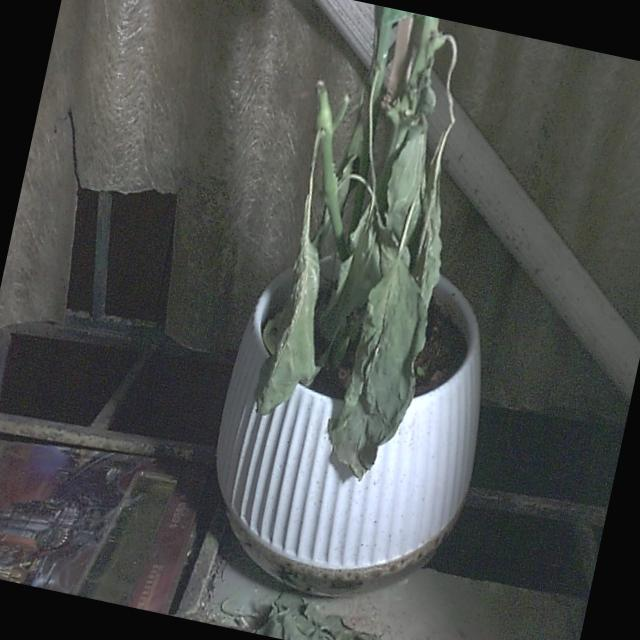Leaf: (320, 254, 437, 485)
